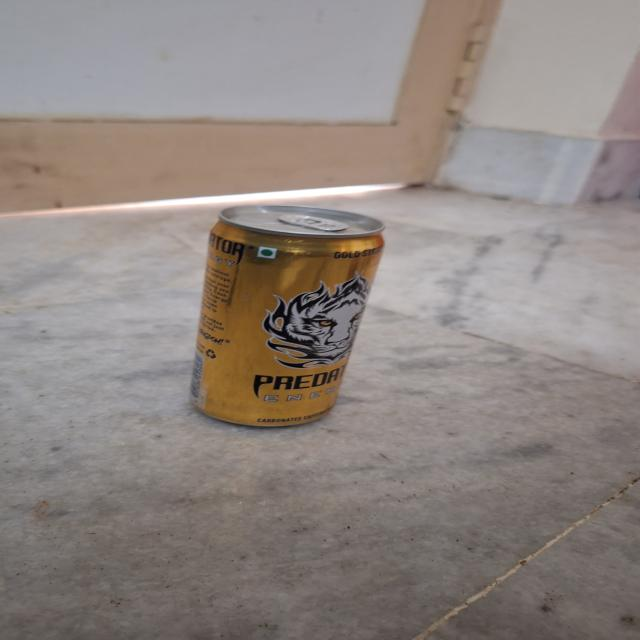Predator: (178, 217, 388, 430)
